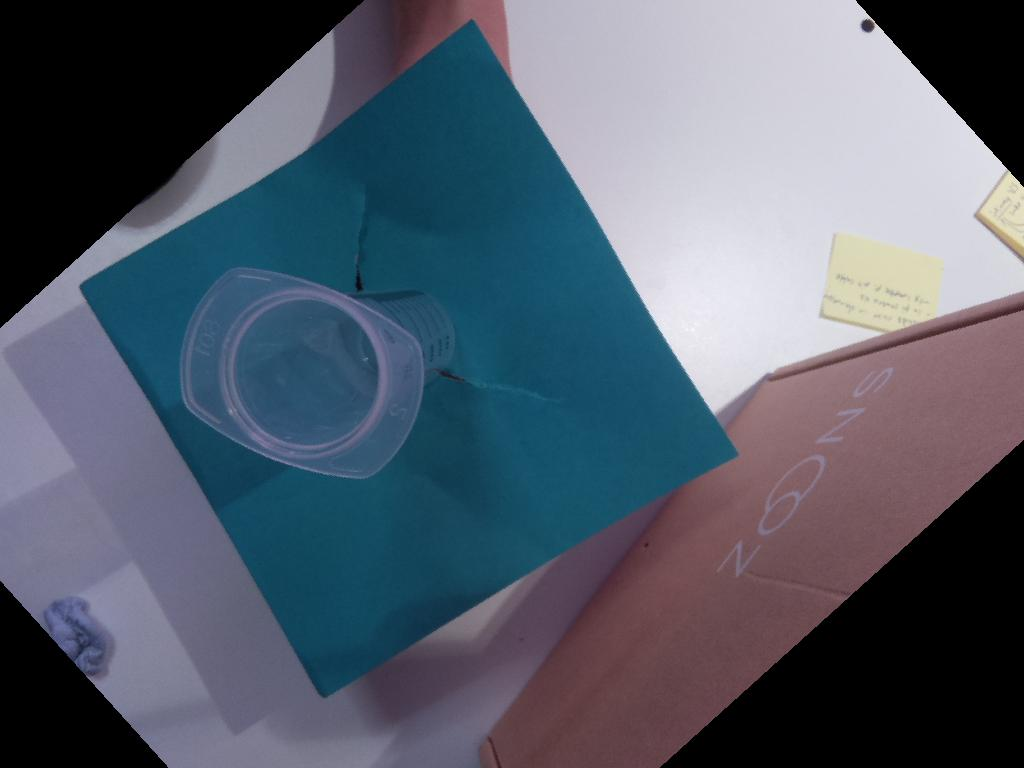clean: (175, 260, 429, 484)
